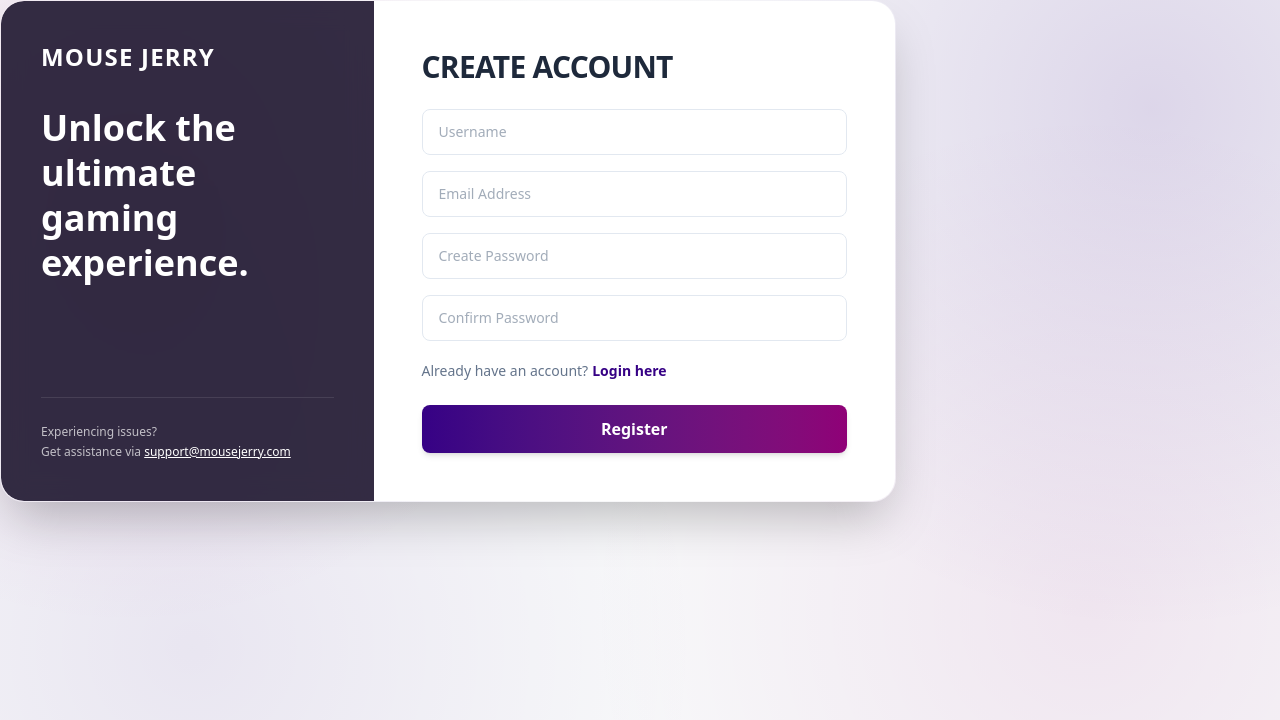
Test case: AuthCard › toggles mode between register and login
The image size is (1280, 720).
Click the button with test id "toggle-mode-btn" at (629,371), box [592,361,667,381]
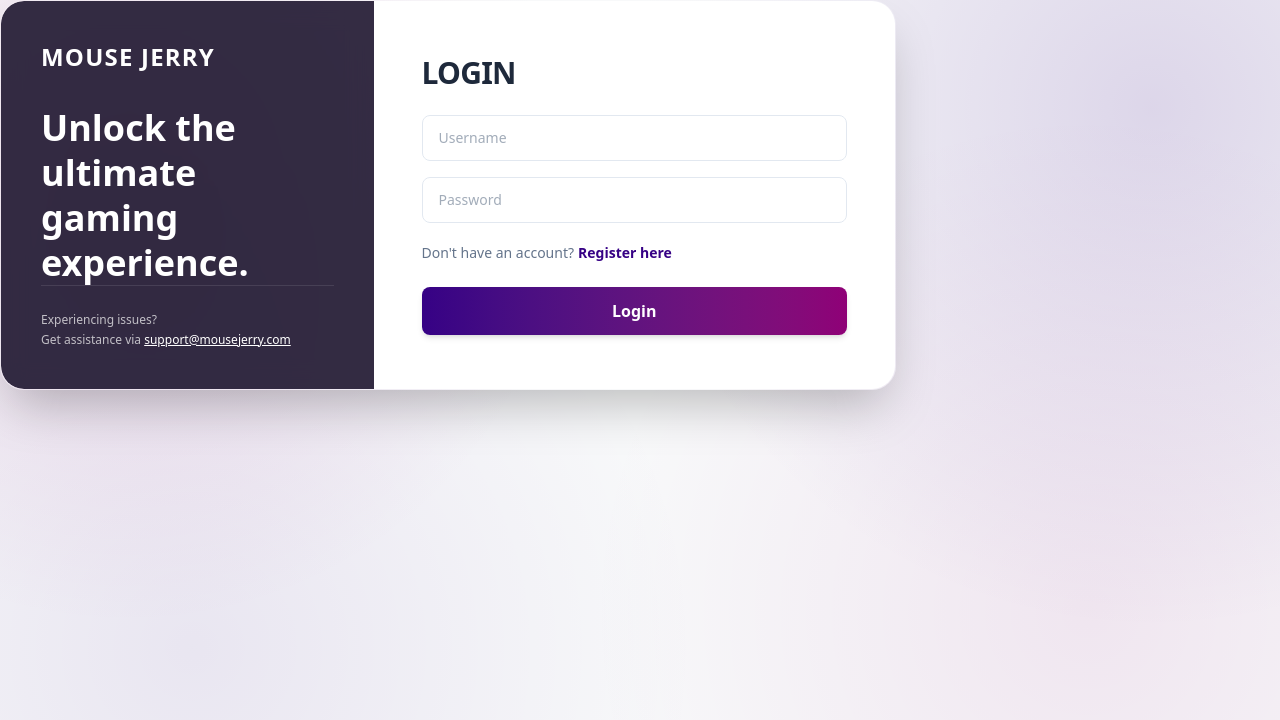
Expected: the heading "LOGIN" is shown, [422,52,516,93]
Expected: the button with test id "submit-btn" reads "Login", [422,287,847,335]
Expected: the button with test id "toggle-mode-btn" reads "Register here"
# Toggle back to register
Click the button with test id "toggle-mode-btn" at (625,253), box [578,243,672,263]
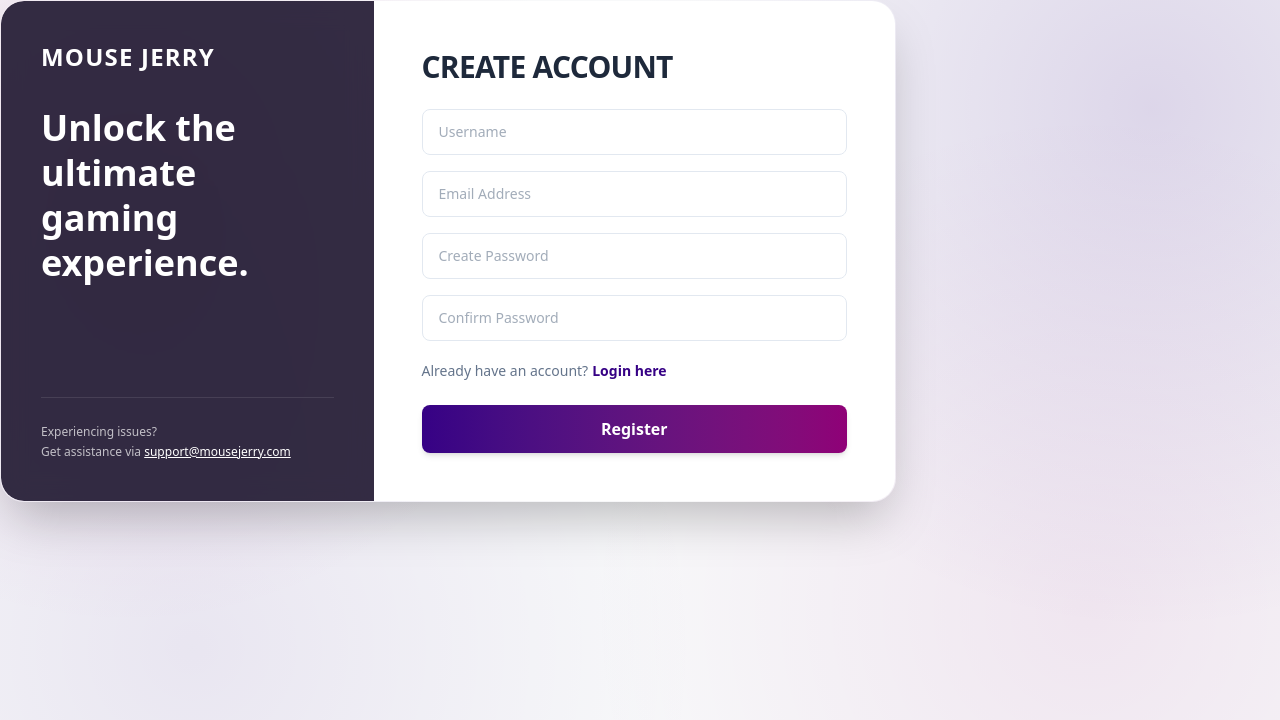
Expected: the heading "CREATE ACCOUNT" is shown, [422,46,673,87]
